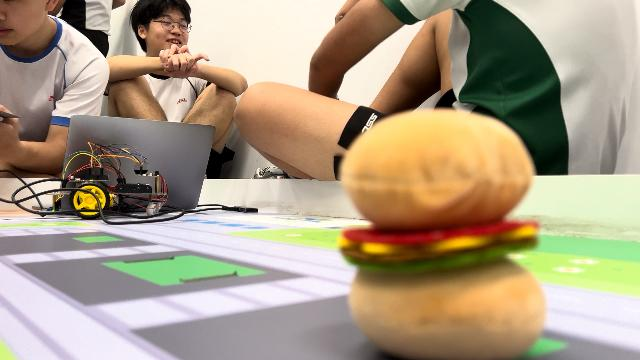burger: (333, 106, 549, 356)
